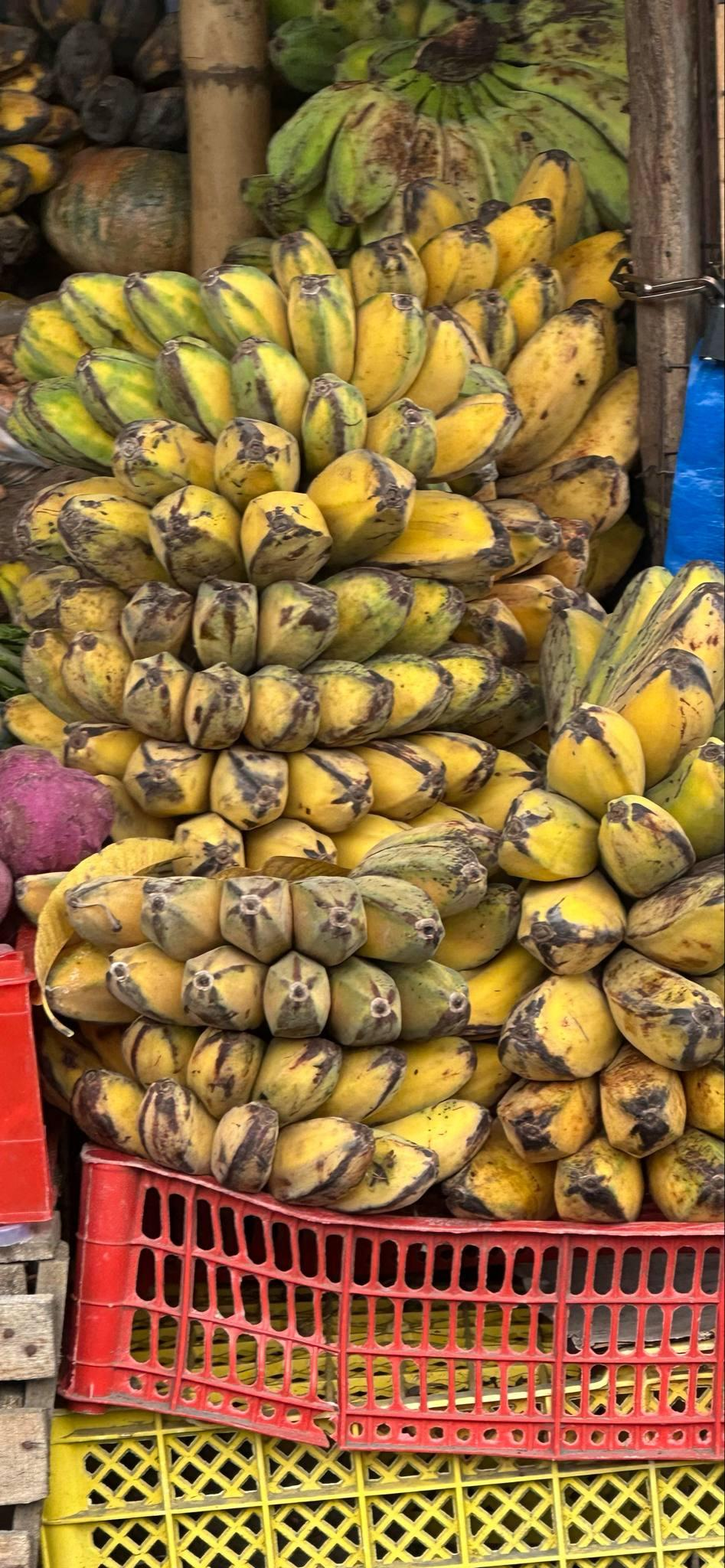ripe: (3, 693, 543, 877), (37, 1016, 520, 1214), (15, 417, 516, 602), (402, 149, 641, 481), (463, 850, 724, 1084), (443, 1045, 724, 1223), (451, 455, 632, 701)
underripe: (5, 227, 524, 493), (45, 822, 523, 1046), (24, 567, 547, 752), (270, 0, 630, 247), (496, 558, 724, 901)
